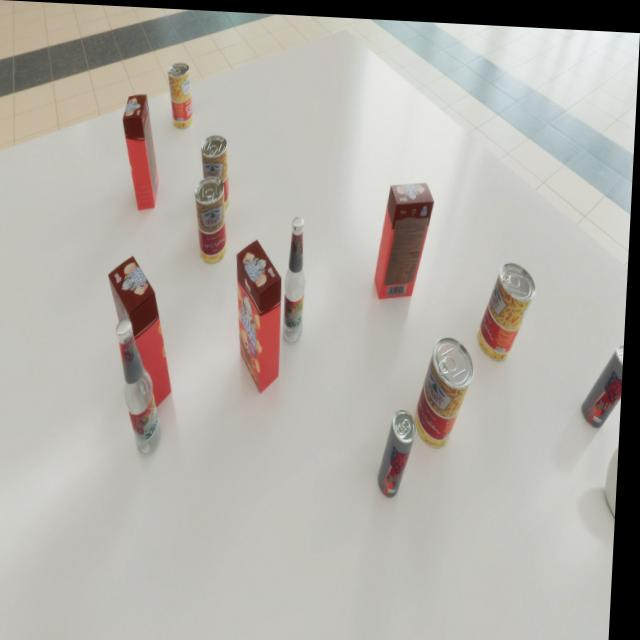Bottle: (114, 317, 171, 455), (285, 213, 312, 341)
HelloPanda: (106, 253, 181, 412), (234, 236, 288, 391), (376, 176, 437, 297), (120, 92, 164, 209)
Potato_sticks: (417, 331, 478, 445), (480, 255, 540, 357), (194, 174, 232, 262), (199, 132, 234, 213), (166, 60, 197, 128)
Rita_zero_sugar: (585, 336, 627, 422), (382, 404, 421, 494)
